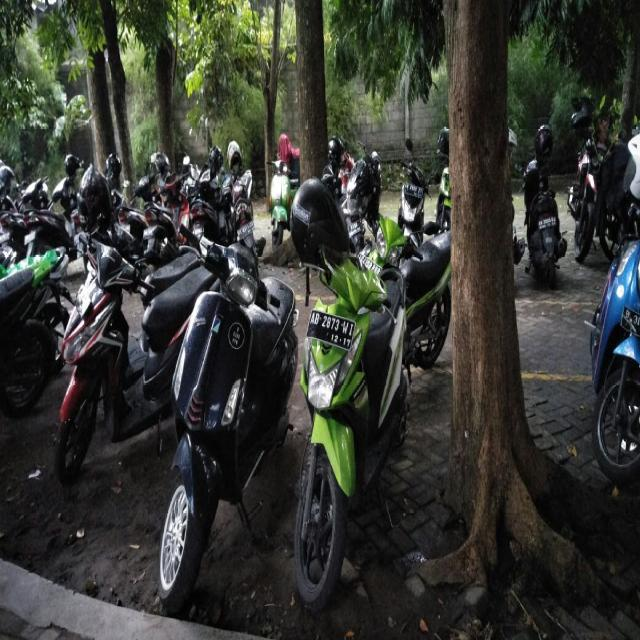plate: (307, 308, 355, 352)
